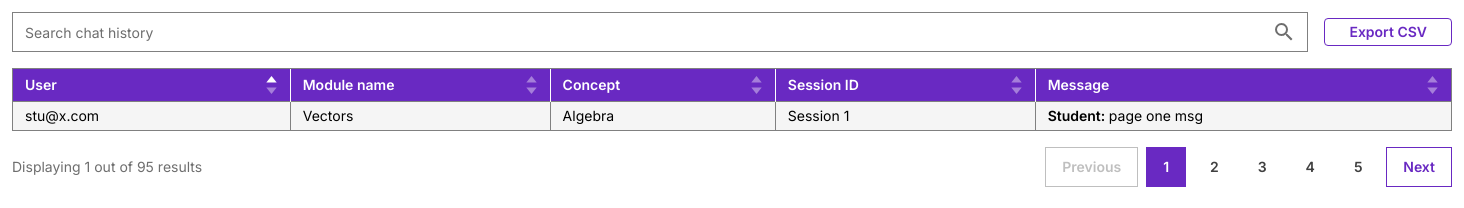
Test case: ChatHistoryTab › paginates over offset via the numbered pagination (Previous disabled on page 1, page click advances)
The image size is (1464, 208).
Expected: the button "Previous" is disabled, [1045, 146, 1138, 186]
Expected: the text "Student: page one msg" is shown, [1048, 106, 1203, 124]
What coordinates should you click on to do the following:
click the button named "Page 2"
I would click on:
 (1214, 166)
Its box is [1194, 146, 1234, 186].
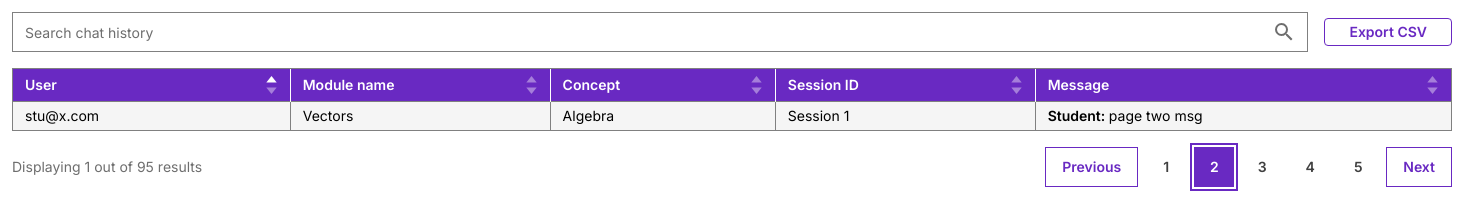
Now the text "Student: page two msg" is shown, box [1048, 106, 1203, 124]
